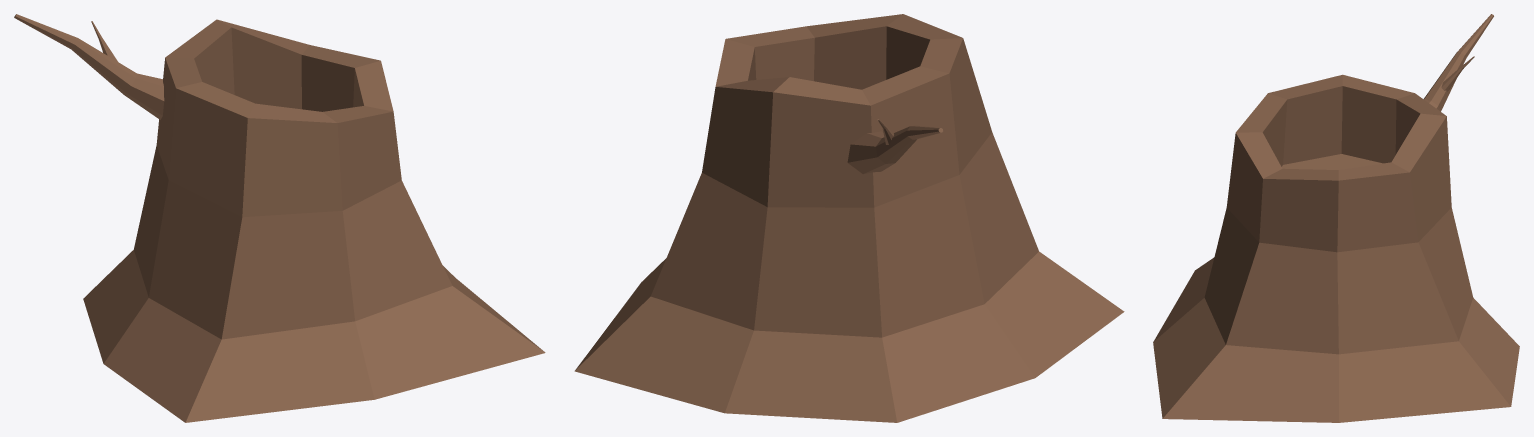
Rendered from env_treestump1_mesh_01_v1.glb.
3 renders of one model, left to right at view 1: azimuth 30°, elevation 25°; view 2: azimuth 150°, elevation 25°; view 3: azimuth 270°, elevation 25°, orthographic. The views are drawn at different scales.
Visible parts, largest first — view 1: Stubbe_LOD0; view 2: Stubbe_LOD0; view 3: Stubbe_LOD0.
Boxes of the visible parts, <box> form: Stubbe_LOD0: <box>14,14,545,422</box>; Stubbe_LOD0: <box>574,14,1124,422</box>; Stubbe_LOD0: <box>1153,14,1519,422</box>.
Size of the model in its own units: 2.31 by 1.78 by 2.32.
